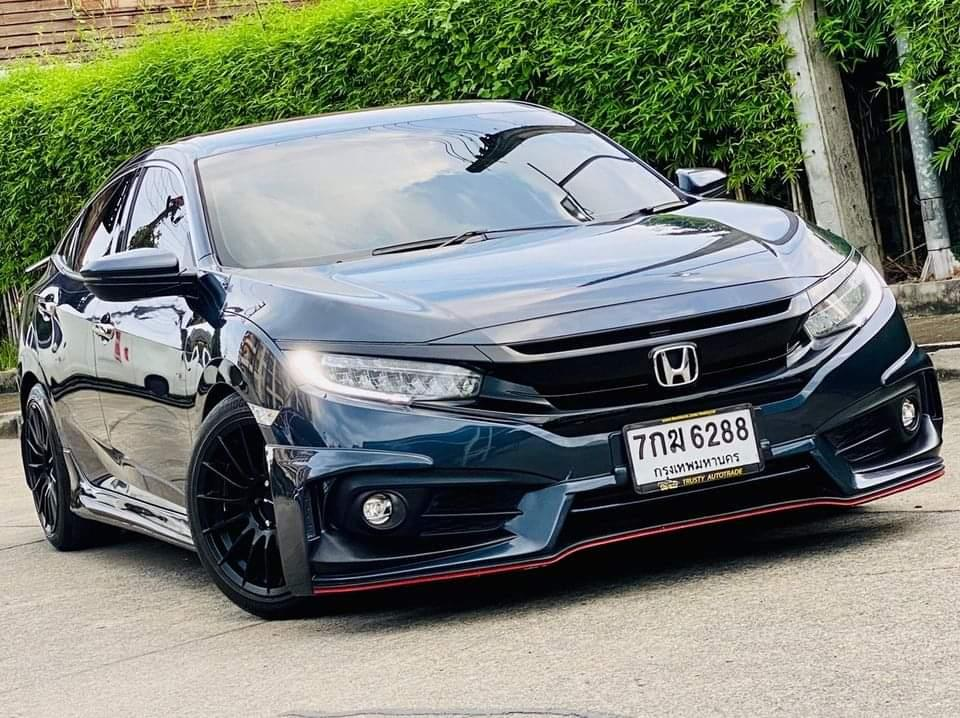license-plate: (618, 399, 769, 502)
